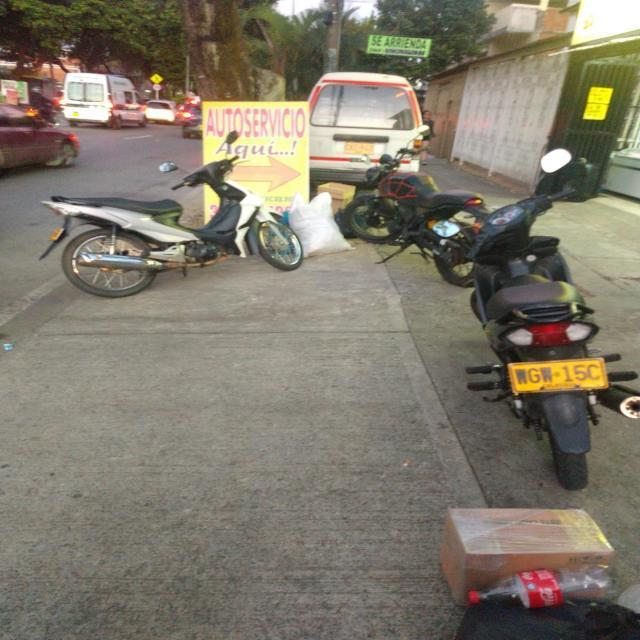Garbage_Bag: (283, 190, 354, 258)
